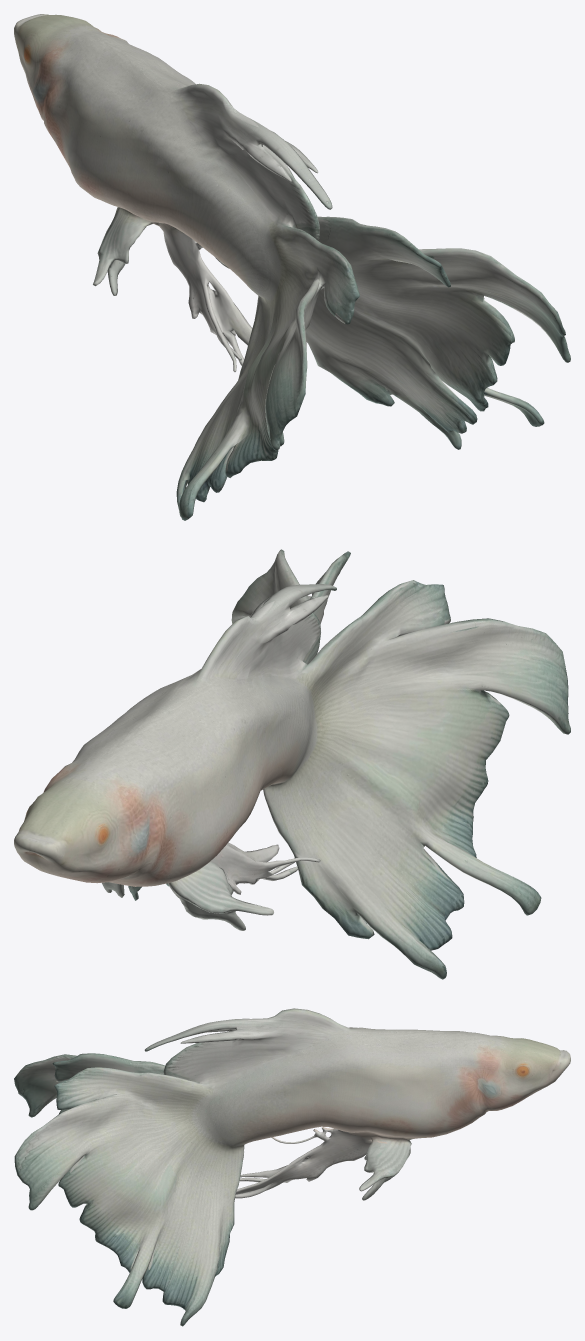
File: fish.glb
3 renders of one model, top to bottom at view 1: azimuth 30°, elevation 25°; view 2: azimuth 150°, elevation 25°; view 3: azimuth 270°, elevation 25°, orthographic. The views are drawn at different scales.
Parts seen in each view (by area): view 1: Albino_tripo_mat_804a621e_0; view 2: Albino_tripo_mat_804a621e_0; view 3: Albino_tripo_mat_804a621e_0.
Boxes of the visible parts, x1,y1,x2,y2 form: Albino_tripo_mat_804a621e_0: [14, 14, 570, 520]; Albino_tripo_mat_804a621e_0: [14, 549, 570, 979]; Albino_tripo_mat_804a621e_0: [14, 1008, 570, 1326].
Size of the model in its own units: 0.054 by 0.0504 by 0.0979.
Materials: 1 (1 with a texture image).
